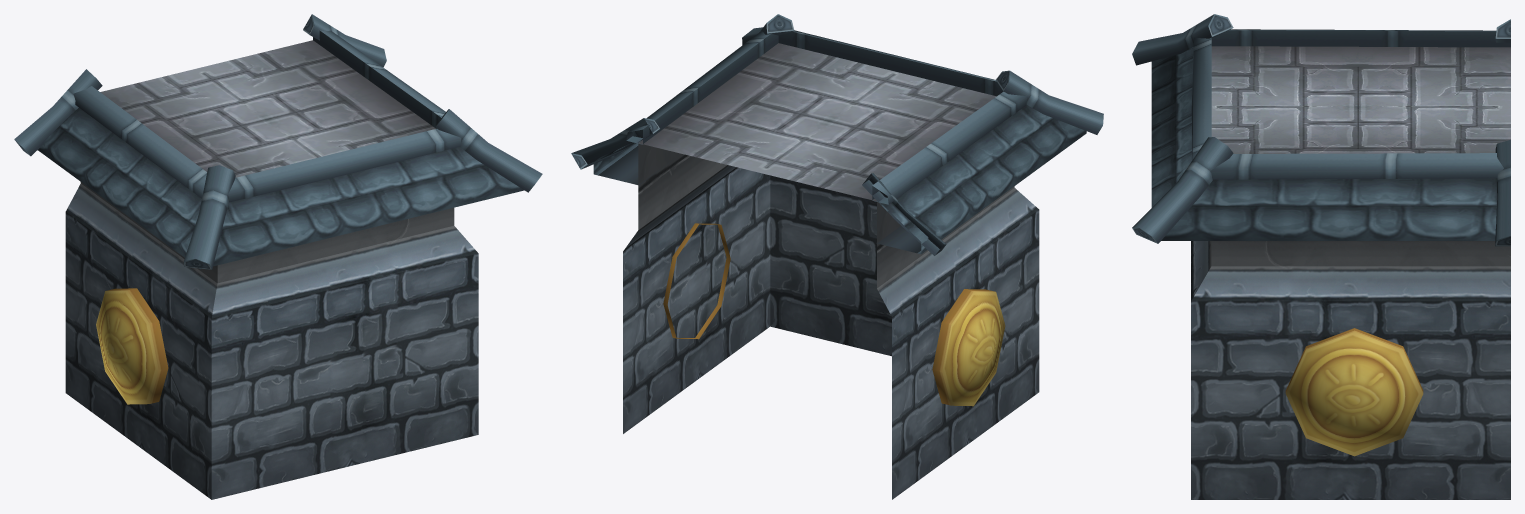
Rendered from castle_wall_end.fbx.
The picture shows the model from 3 angles, left to right: view 1: azimuth 30°, elevation 25°; view 2: azimuth 150°, elevation 25°; view 3: azimuth 270°, elevation 25°; orthographic projection. The views are drawn at different scales.
Parts seen in each view (by area): view 1: castle_wall_end; view 2: castle_wall_end; view 3: castle_wall_end.
Boxes of the visible parts, x1,y1,x2,y2 form: castle_wall_end: [14, 14, 542, 499]; castle_wall_end: [571, 14, 1103, 499]; castle_wall_end: [1132, 14, 1510, 499].
Size of the model in its own units: 5.16 by 4.3 by 4.18.
1 material, 1 textured.
